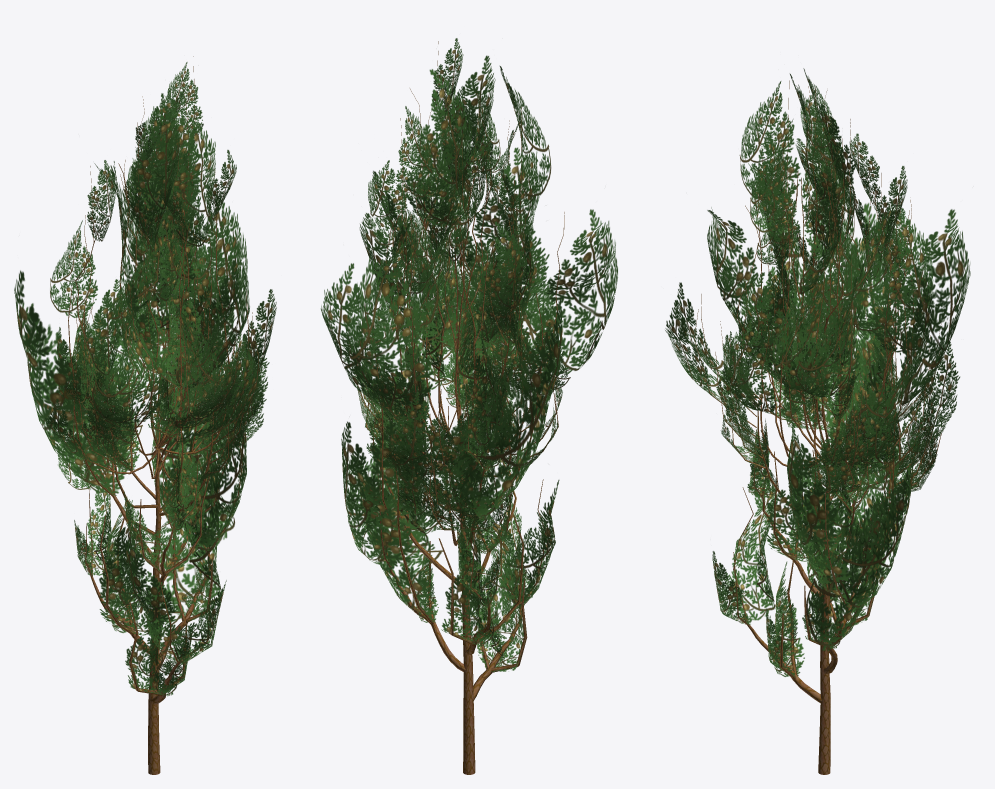
Rendered from env_cypress_03.glb.
The picture shows the model from 3 angles, left to right: view 1: azimuth 30°, elevation 25°; view 2: azimuth 150°, elevation 25°; view 3: azimuth 270°, elevation 25°; orthographic projection.
Visible parts, largest first — view 1: kiparis; view 2: kiparis; view 3: kiparis.
Part boxes in pixels (x1,y1,x2,y2): kiparis: (14, 56, 276, 774); kiparis: (321, 38, 617, 774); kiparis: (665, 68, 970, 774).
Bounding box in the file's own units: 10.01 × 29.35 × 11.9.
2 materials, 2 textured.
